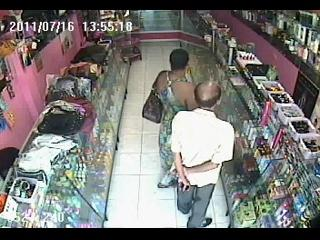Normal: (170, 80, 236, 227), (152, 48, 198, 188), (142, 70, 168, 124)
